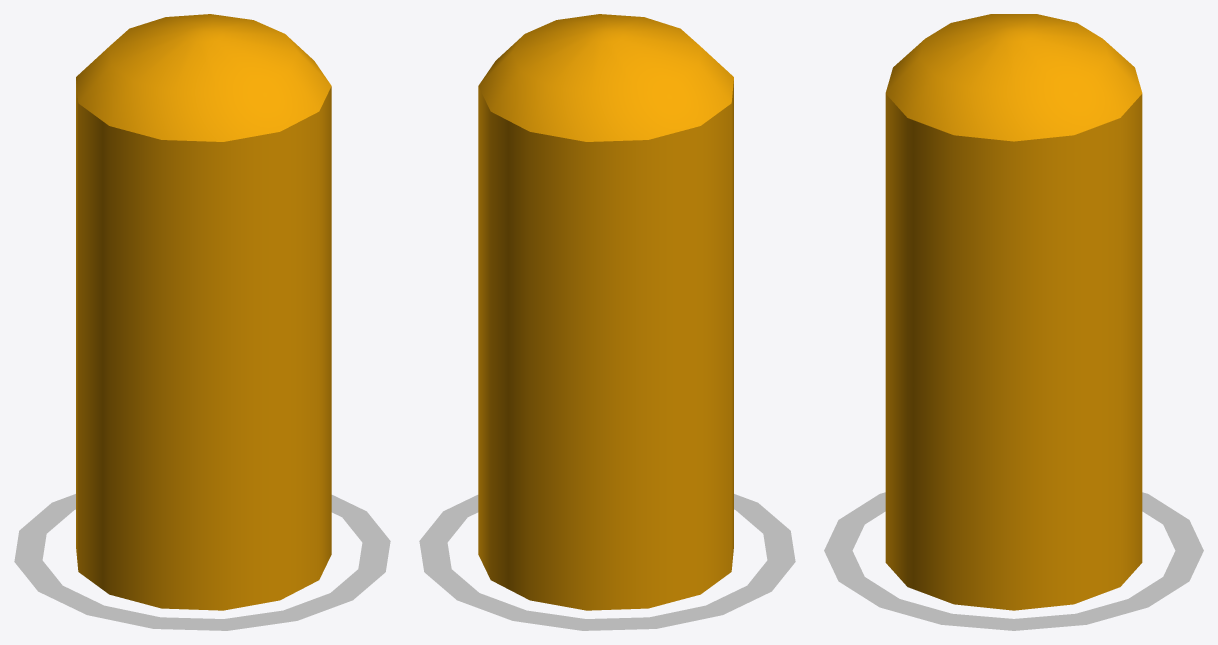
Rendered from cyl_block.fbx.
The picture shows the model from 3 angles, left to right: view 1: azimuth 30°, elevation 25°; view 2: azimuth 150°, elevation 25°; view 3: azimuth 270°, elevation 25°; orthographic projection.
Visible parts, largest first — view 1: block_cyl, block_line; view 2: block_cyl, block_line; view 3: block_cyl, block_line.
Part boxes in pixels (<box>): block_cyl: <box>76,14,331,610</box>; block_line: <box>14,494,390,630</box>; block_cyl: <box>478,14,733,610</box>; block_line: <box>419,494,795,630</box>; block_cyl: <box>885,14,1142,610</box>; block_line: <box>824,492,1203,630</box>.
Size of the model in its own units: 147 by 224 by 147.
